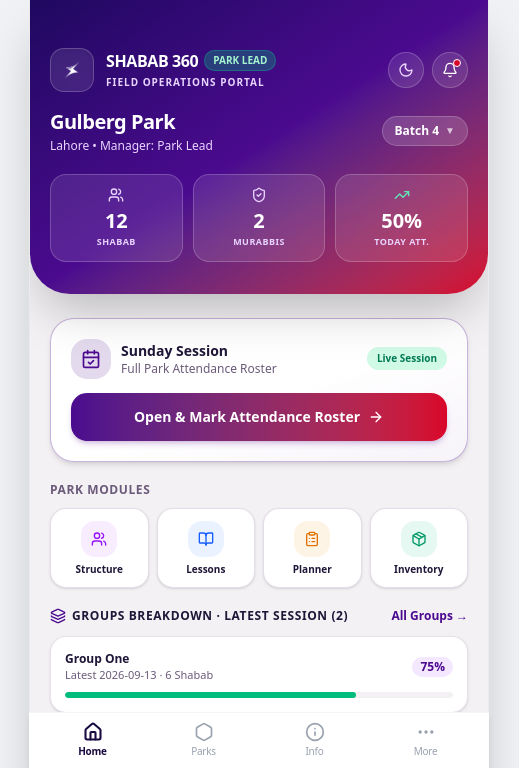
Test: PwaApp Park Lead navigation › keeps the Parks tab a scoped selector and Home the dashboard
Expected: the heading "Gulberg Park" is shown, [50,108,175,135]
Click the button "Parks".
click(204, 740)  # box [148,718,259,763]
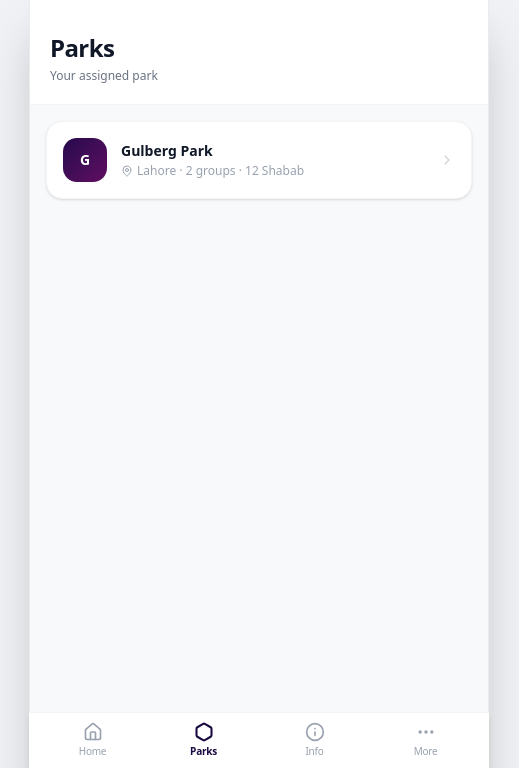
Result: the text "Your assigned park" is shown at [50,67,158,84]
Result: the button "G Gulberg Park Lahore · 2 groups · 12 Shabab" is shown at [46,121,472,199]
Result: the button "Open & Mark Attendance Roster" is gone
